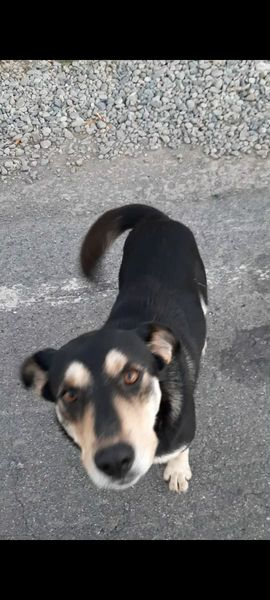dog: (19, 197, 219, 511)
